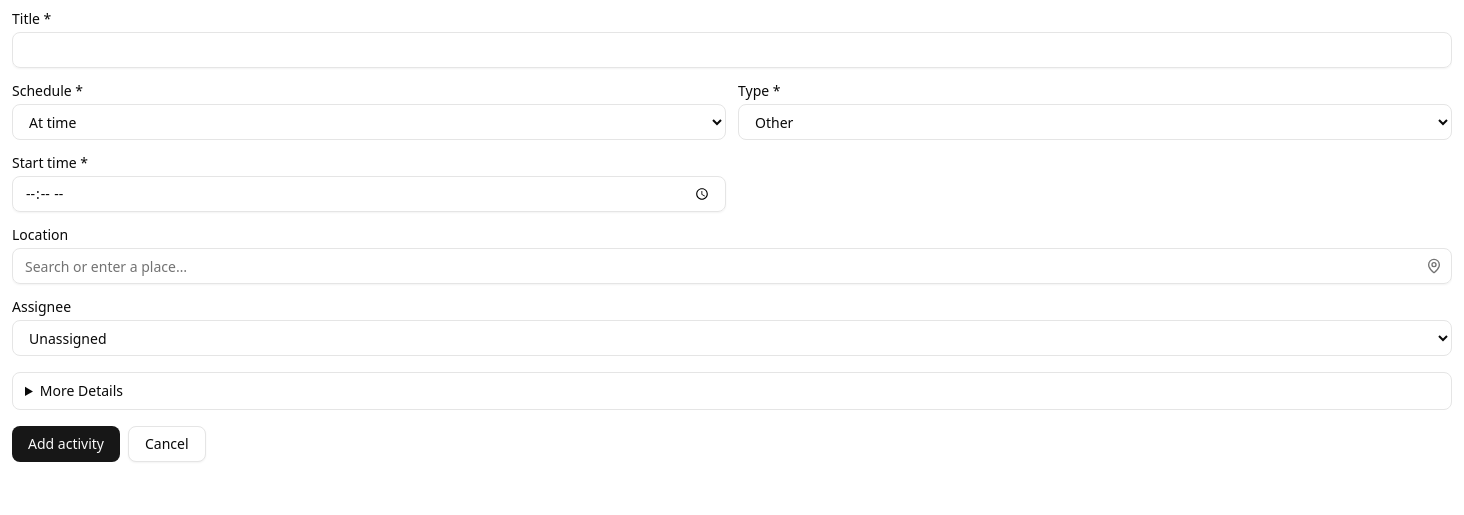
Test: TimelineActivityForm › rejects TIME_RANGE when end is not after start
Type "Hike" into the field labelled "Title *" at (732, 50), box left=12, top=32, right=1452, bottom=68
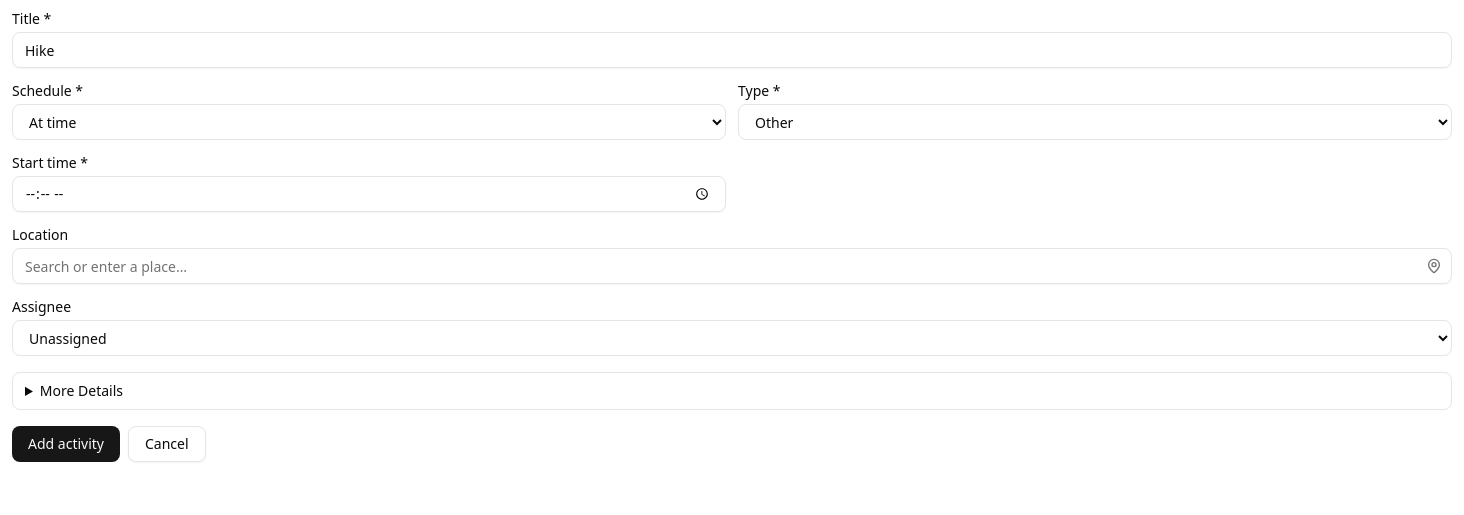
Select "Time range" in the dropdown labelled "Schedule *" at (369, 122), box left=12, top=104, right=726, bottom=140
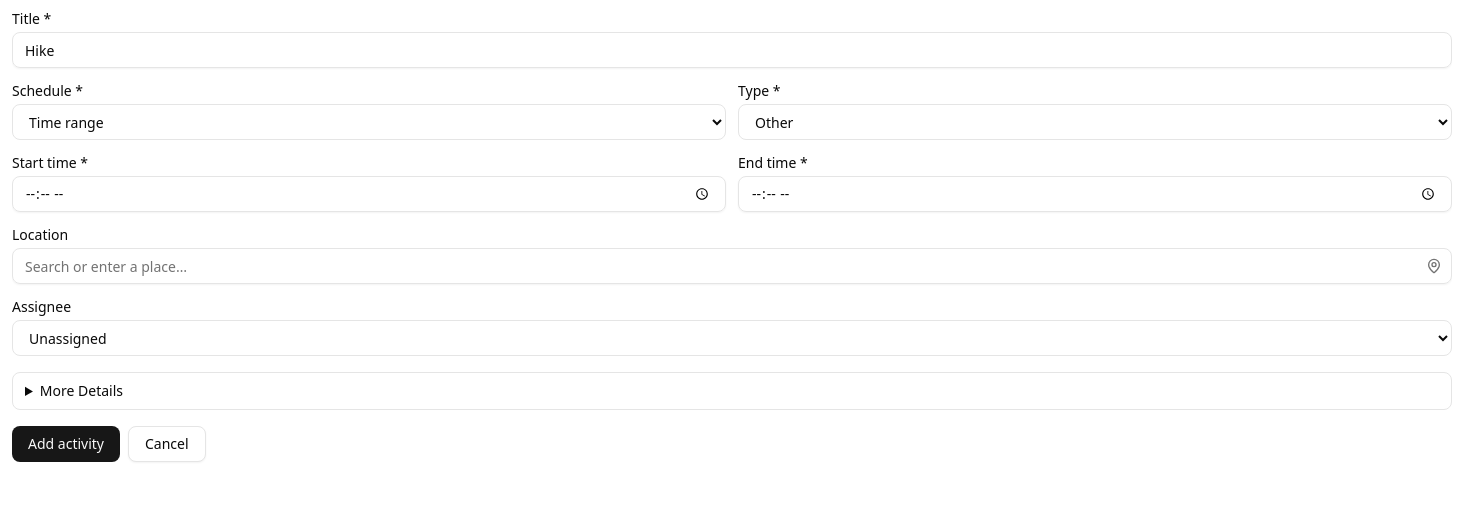
Type "10:00" into the time field labelled "Start time *" at (369, 194), box left=12, top=176, right=726, bottom=212
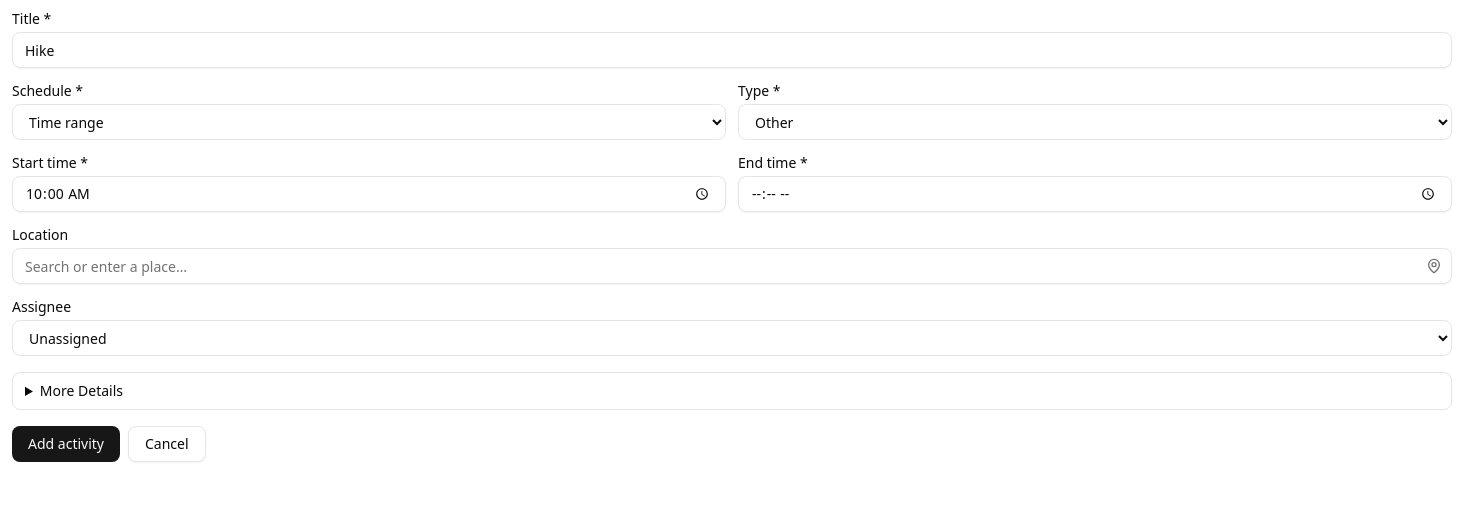
Type "09:00" into the time field labelled "End time *" at (1095, 194), box left=738, top=176, right=1452, bottom=212
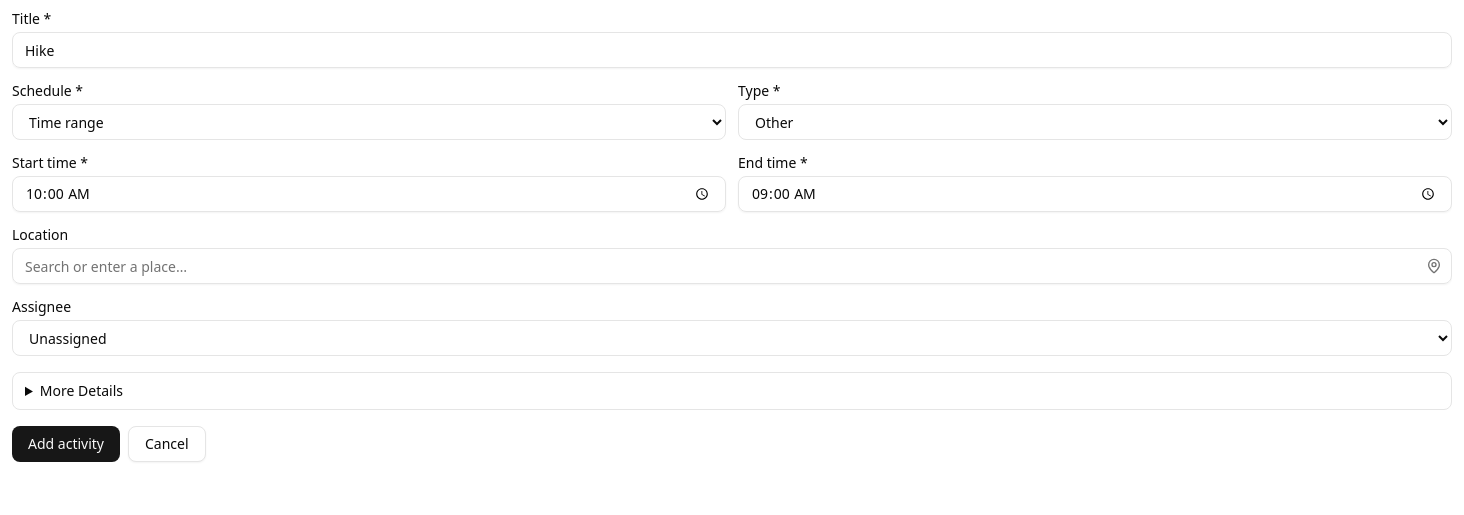
Click the button "Add activity" at (66, 444), box left=12, top=426, right=120, bottom=462
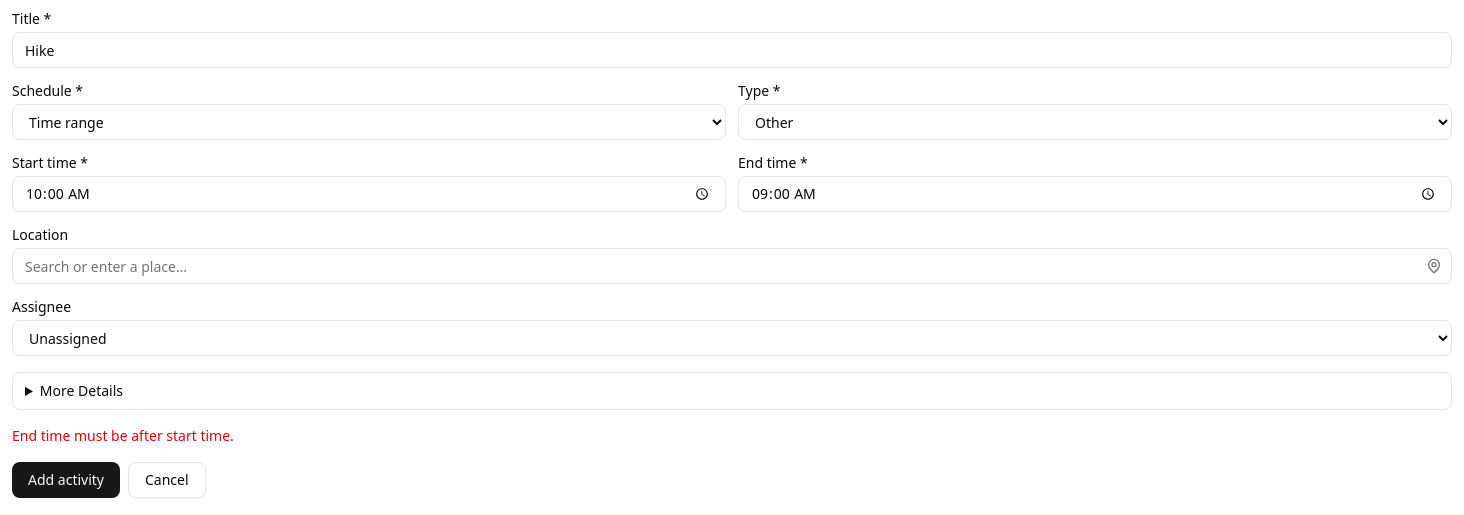
Expected: the text "End time must be after start time." is shown, left=12, top=426, right=234, bottom=445
